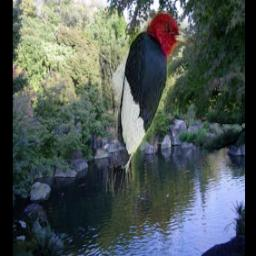Woodpecker: (99, 12, 195, 200)
